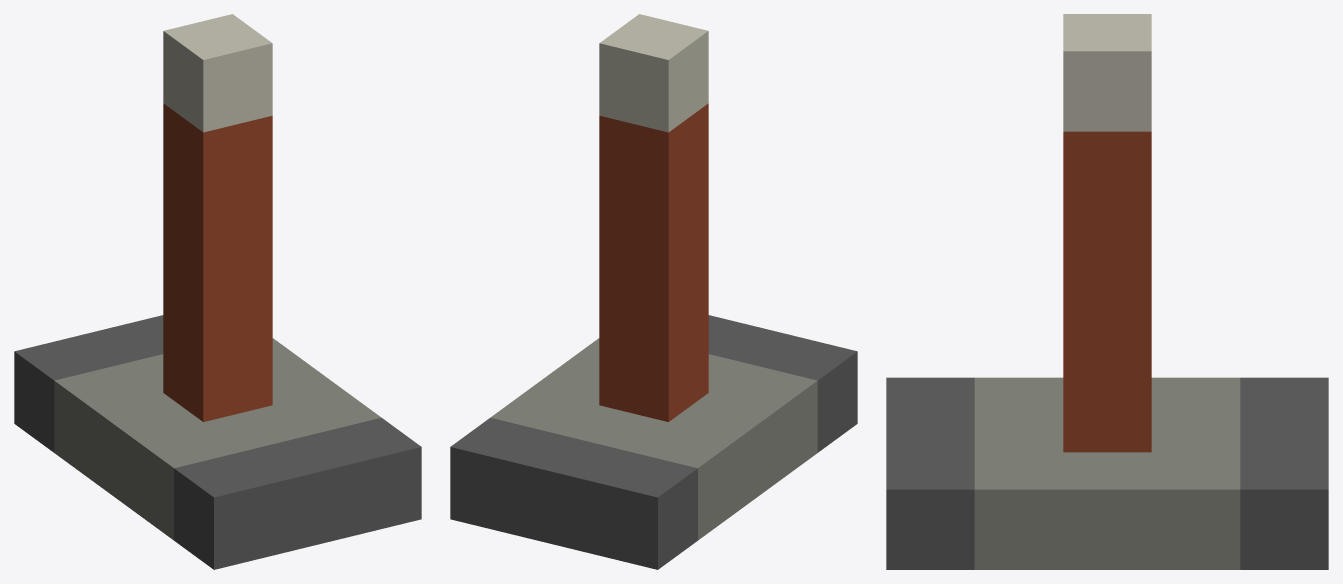
File: levier.obj
3 renders of one model, left to right at view 1: azimuth 30°, elevation 25°; view 2: azimuth 150°, elevation 25°; view 3: azimuth 270°, elevation 25°, orthographic. The views are drawn at different scales.
Visible parts, largest first — view 1: levier; view 2: levier; view 3: levier.
Part boxes in pixels (x1=…): levier: x1=14, y1=14, x2=421, y2=569; levier: x1=450, y1=14, x2=857, y2=569; levier: x1=886, y1=14, x2=1328, y2=569.
Bounding box in the file's own units: 3 × 6 × 5.
1 material, 1 textured.
